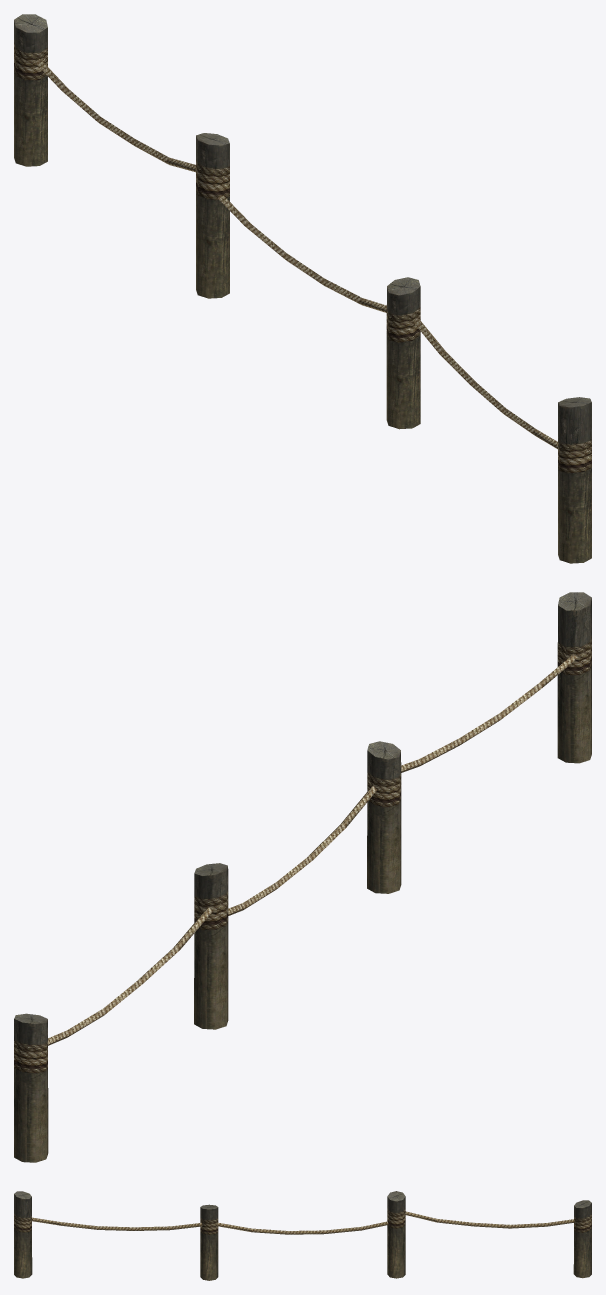
The model's file is fortms_pier_pillarset.glb.
3 views of the same model, one above another, from view 1: azimuth 30°, elevation 25°; view 2: azimuth 150°, elevation 25°; view 3: azimuth 270°, elevation 25° (orthographic). The views are drawn at different scales.
Visible parts, largest first — view 1: fortMS_pier_pillarset; view 2: fortMS_pier_pillarset; view 3: fortMS_pier_pillarset.
Part boxes in pixels (bbox=[...]): fortMS_pier_pillarset: bbox=[14, 14, 591, 563]; fortMS_pier_pillarset: bbox=[14, 592, 591, 1162]; fortMS_pier_pillarset: bbox=[14, 1191, 591, 1280].
Bounding box in the file's own units: 0.6414 × 2.34 × 15.13.
1 material, 1 textured.
